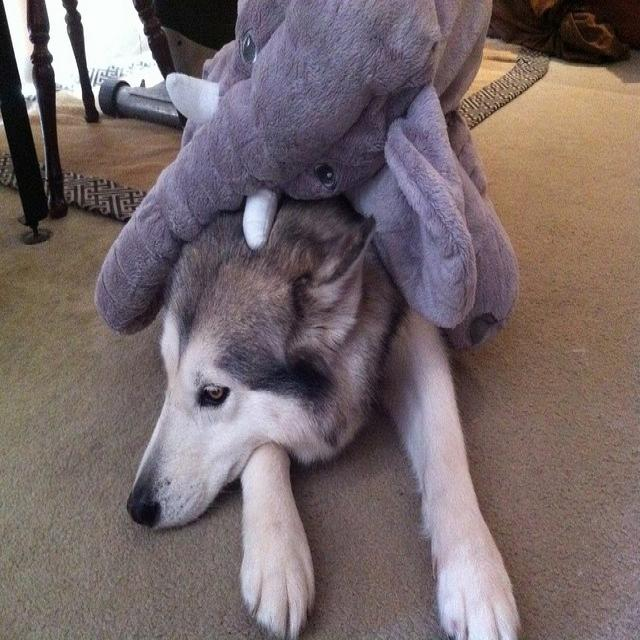dog: (126, 182, 525, 632)
